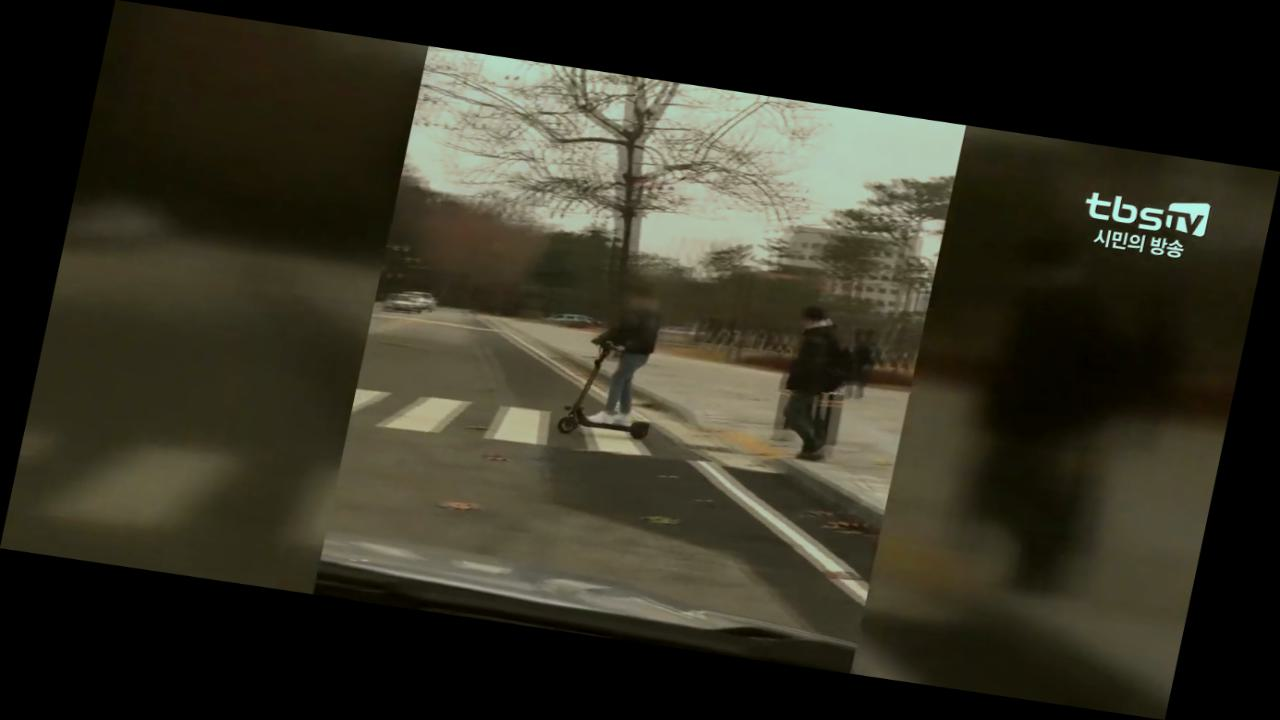nonhelmet: (555, 277, 690, 451)
